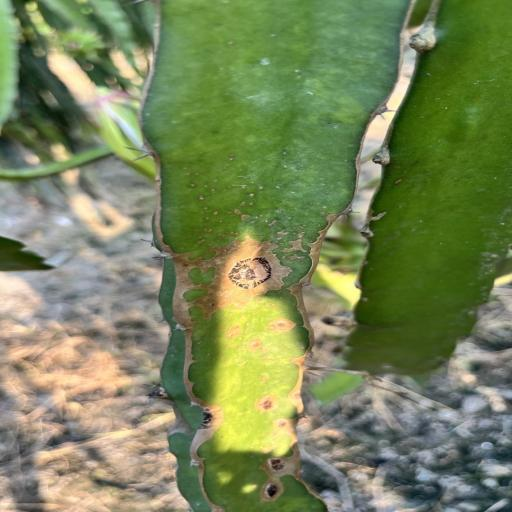stemcanker: (227, 155, 246, 167), (243, 184, 270, 192), (389, 176, 409, 186), (192, 237, 213, 246), (207, 182, 221, 195), (274, 291, 289, 302), (184, 181, 202, 190), (239, 201, 259, 209), (201, 226, 216, 235), (321, 205, 332, 217), (226, 230, 242, 238), (196, 195, 211, 203), (245, 192, 260, 200), (200, 216, 212, 226), (226, 184, 237, 193), (211, 212, 223, 220), (296, 226, 311, 232), (198, 206, 215, 211), (181, 167, 195, 172), (324, 191, 333, 198), (194, 172, 206, 177), (315, 224, 330, 228), (184, 173, 198, 177), (228, 210, 237, 216), (293, 232, 298, 240)
